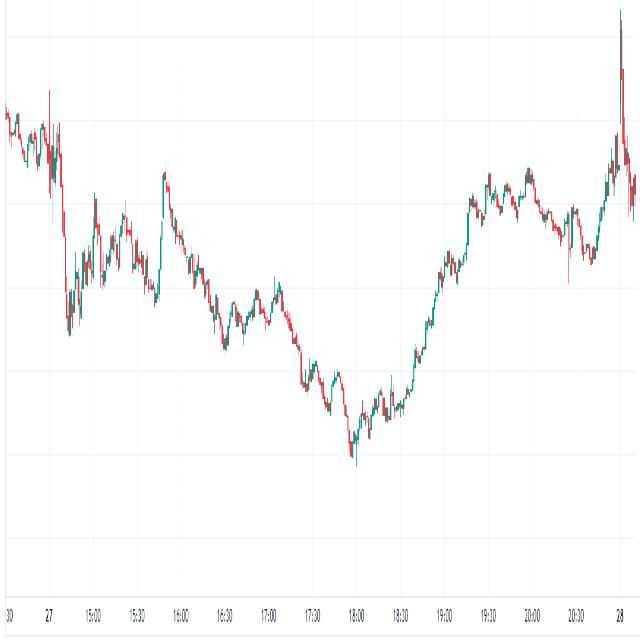Rounding-Bottom: (284, 300, 442, 473)
